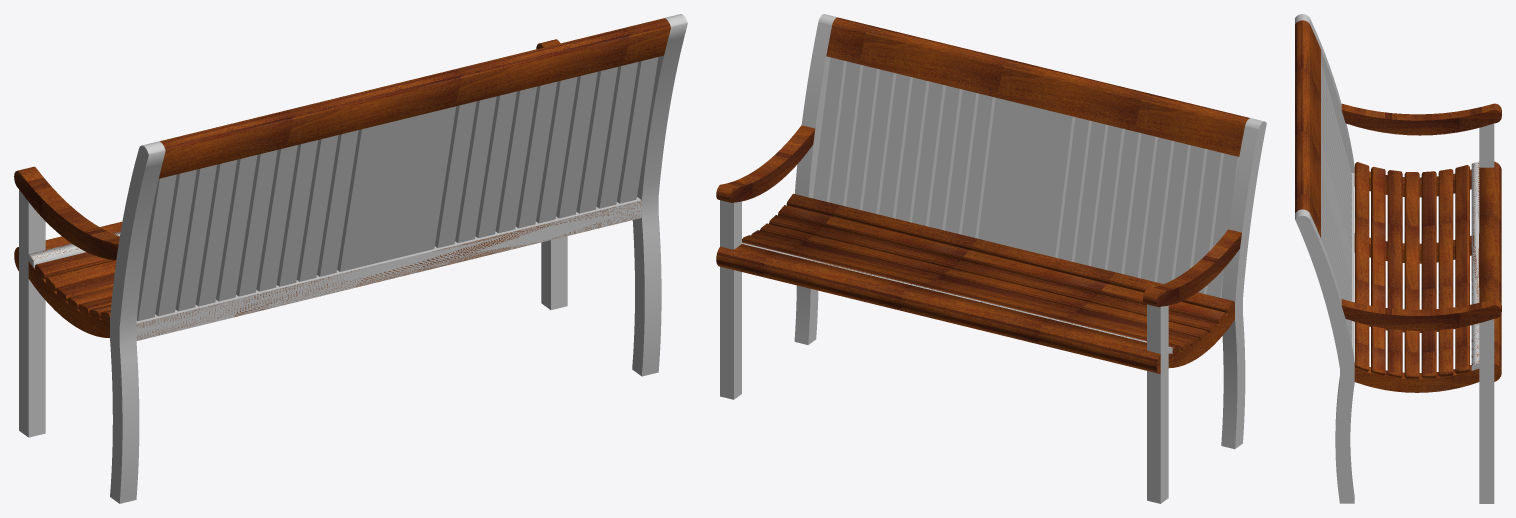
3 renders of one model, left to right at view 1: azimuth 30°, elevation 25°; view 2: azimuth 150°, elevation 25°; view 3: azimuth 270°, elevation 25°, orthographic. The views are drawn at different scales.
Visible parts, largest first — view 1: mesh1_mesh1-geometry, mesh3_mesh3-geometry, mesh4_mesh4-geometry; view 2: mesh1_mesh1-geometry, mesh6_mesh6-geometry, mesh2_mesh2-geometry, mesh7_mesh7-geometry, mesh5_mesh5-geometry, mesh4_mesh4-geometry, mesh3_mesh3-geometry; view 3: mesh1_mesh1-geometry, mesh7_mesh7-geometry, mesh5_mesh5-geometry, mesh4_mesh4-geometry, mesh6_mesh6-geometry, mesh2_mesh2-geometry, mesh3_mesh3-geometry.
Boxes of the visible parts, x1,y1,x2,y2 form: mesh1_mesh1-geometry: [14, 14, 687, 503]; mesh3_mesh3-geometry: [35, 252, 115, 279]; mesh4_mesh4-geometry: [45, 260, 116, 291]; mesh1_mesh1-geometry: [716, 14, 1266, 503]; mesh6_mesh6-geometry: [786, 193, 1234, 313]; mesh2_mesh2-geometry: [778, 205, 1226, 324]; mesh7_mesh7-geometry: [769, 215, 1217, 333]; mesh5_mesh5-geometry: [751, 230, 1199, 346]; mesh4_mesh4-geometry: [742, 235, 1190, 350]; mesh3_mesh3-geometry: [742, 239, 1181, 353]; mesh1_mesh1-geometry: [1295, 14, 1501, 503]; mesh7_mesh7-geometry: [1387, 170, 1402, 378]; mesh5_mesh5-geometry: [1421, 171, 1436, 378]; mesh4_mesh4-geometry: [1438, 169, 1453, 377]; mesh6_mesh6-geometry: [1355, 162, 1369, 372]; mesh2_mesh2-geometry: [1371, 166, 1385, 375]; mesh3_mesh3-geometry: [1455, 165, 1469, 374].
Size of the model in its own units: 0.783 by 0.5216 by 0.339.
